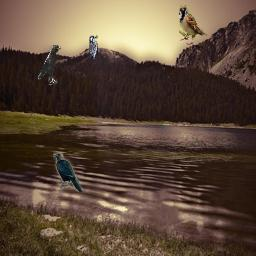Crow: (53, 152, 82, 192), (37, 45, 61, 85)
Sparrow: (179, 5, 207, 45)
Woodpecker: (89, 35, 98, 59)
